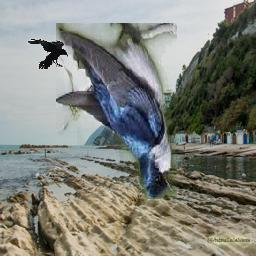Crow: (28, 39, 69, 70)
Swallow: (57, 23, 178, 199)
